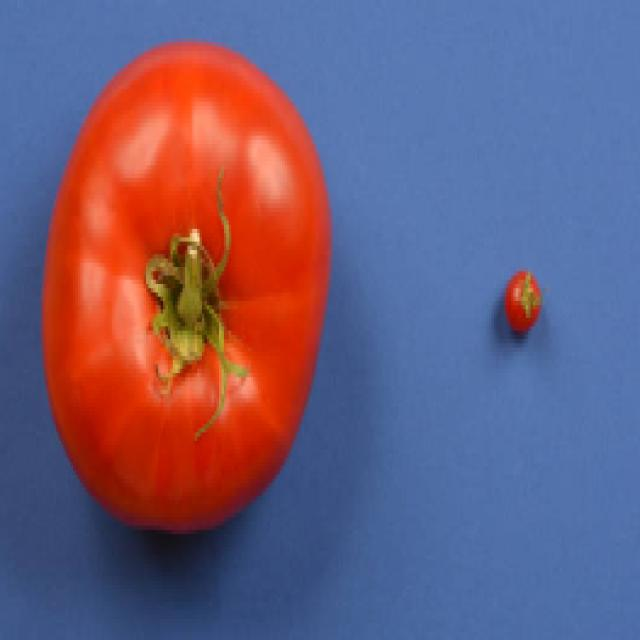Tomato: (36, 59, 335, 524)
